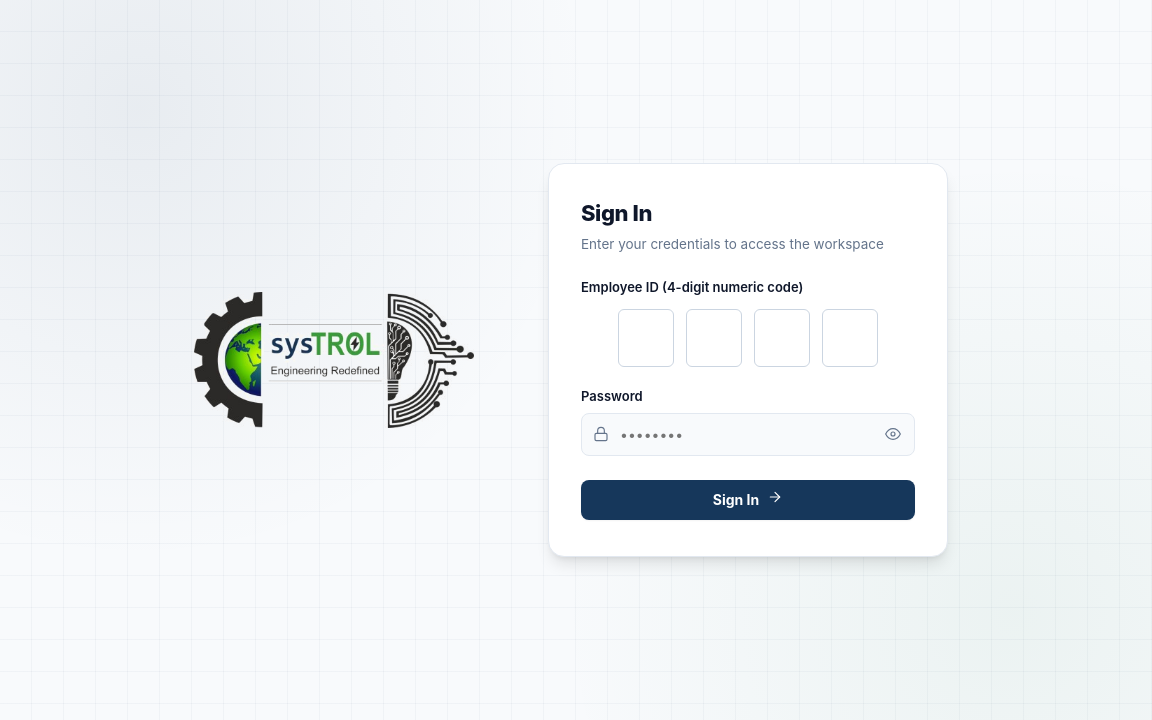
LoginPage › displays revocation banner when user account is deactivated or revoked
Type "0" into the field with test id "employee-code-digit-0".
click(646, 338); type("0")  # box [618,309,674,367]
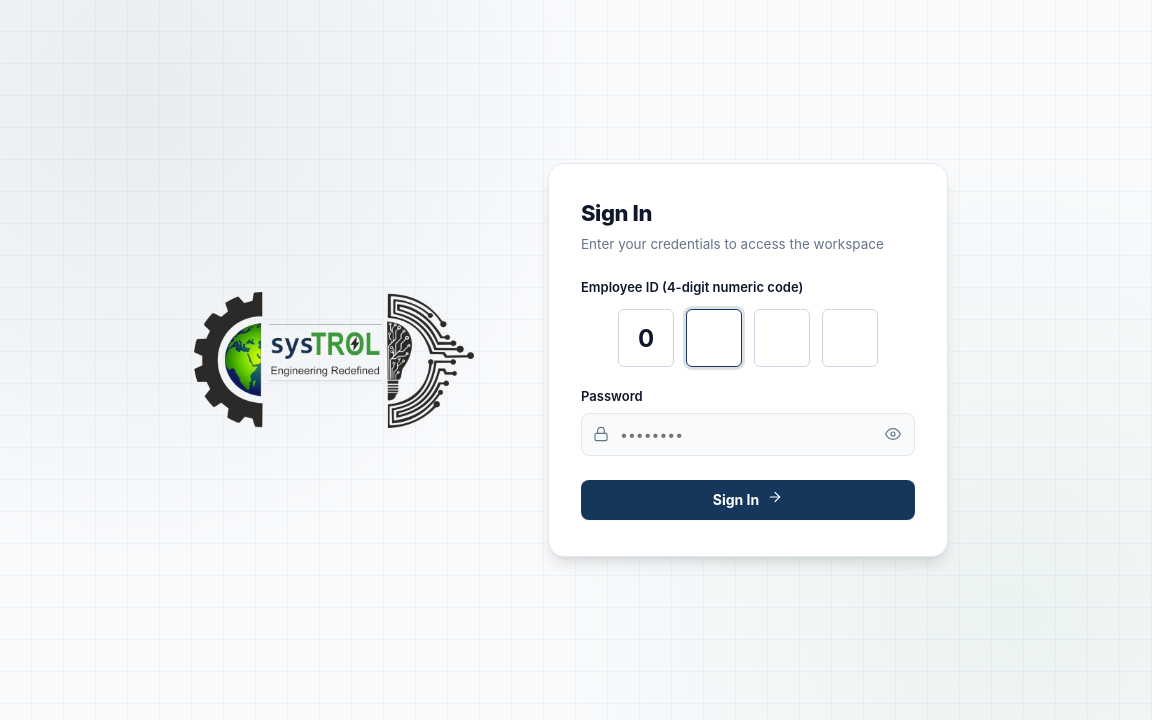
Type "0" into the field named "Digit 2".
click(714, 338); type("0")  # box [686,309,742,367]
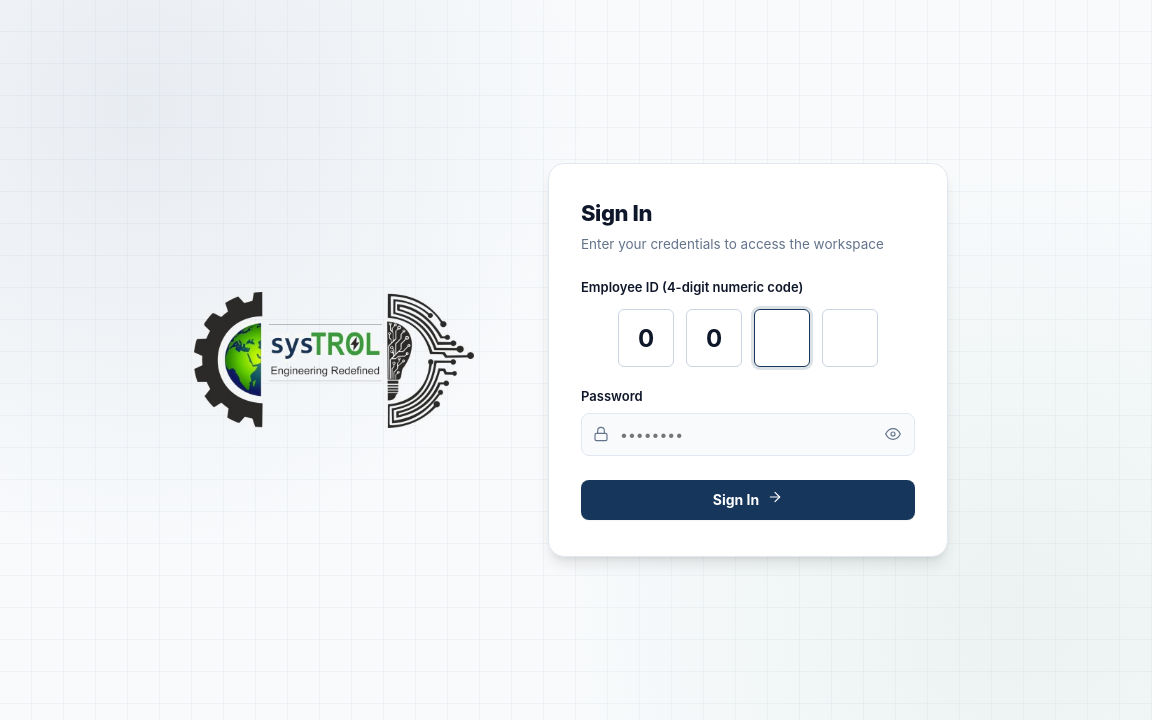
Type "0" into the field named "Digit 3".
click(782, 338); type("0")  # box [754,309,810,367]
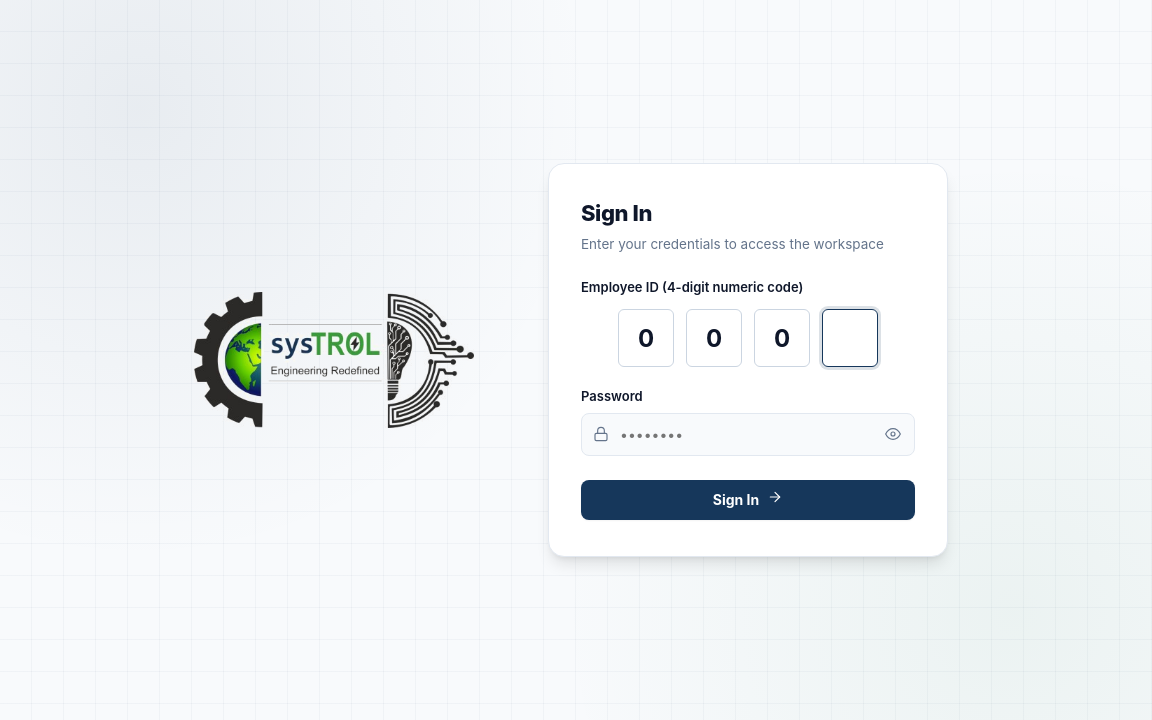
Type "2" into the field named "Digit 4".
click(850, 338); type("2")  # box [822,309,878,367]
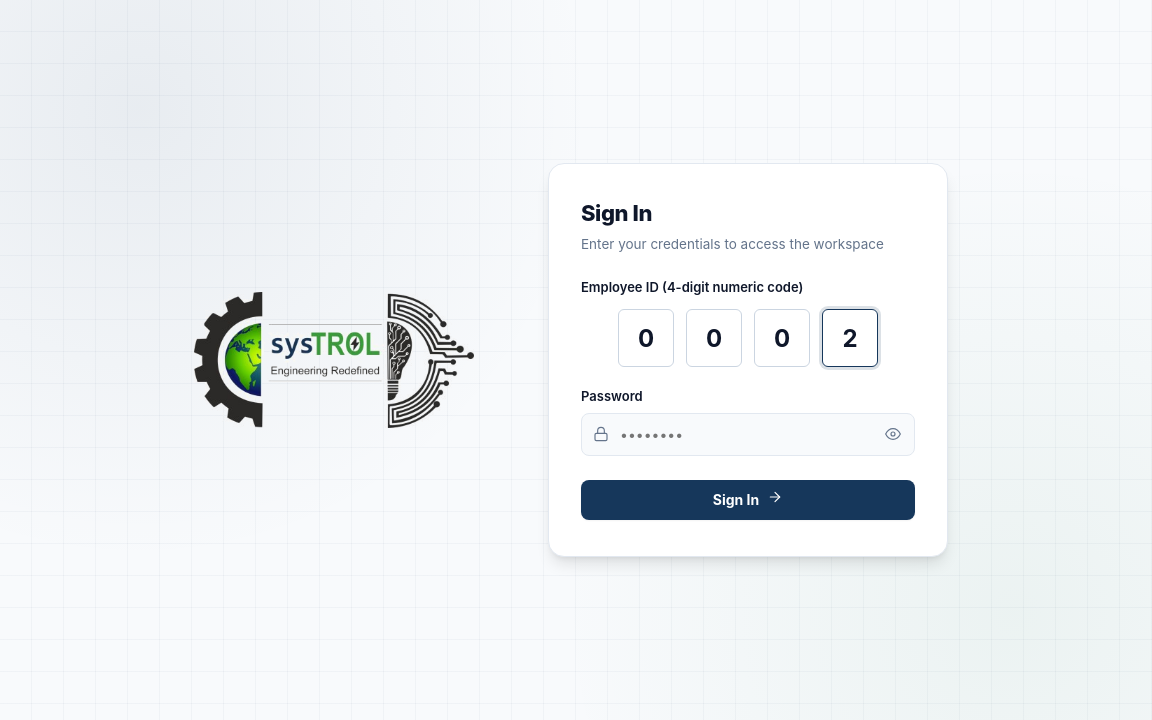
Type "anypassword" into the password field labelled "Password".
click(748, 434); type("anypassword")  # box [581,413,915,456]
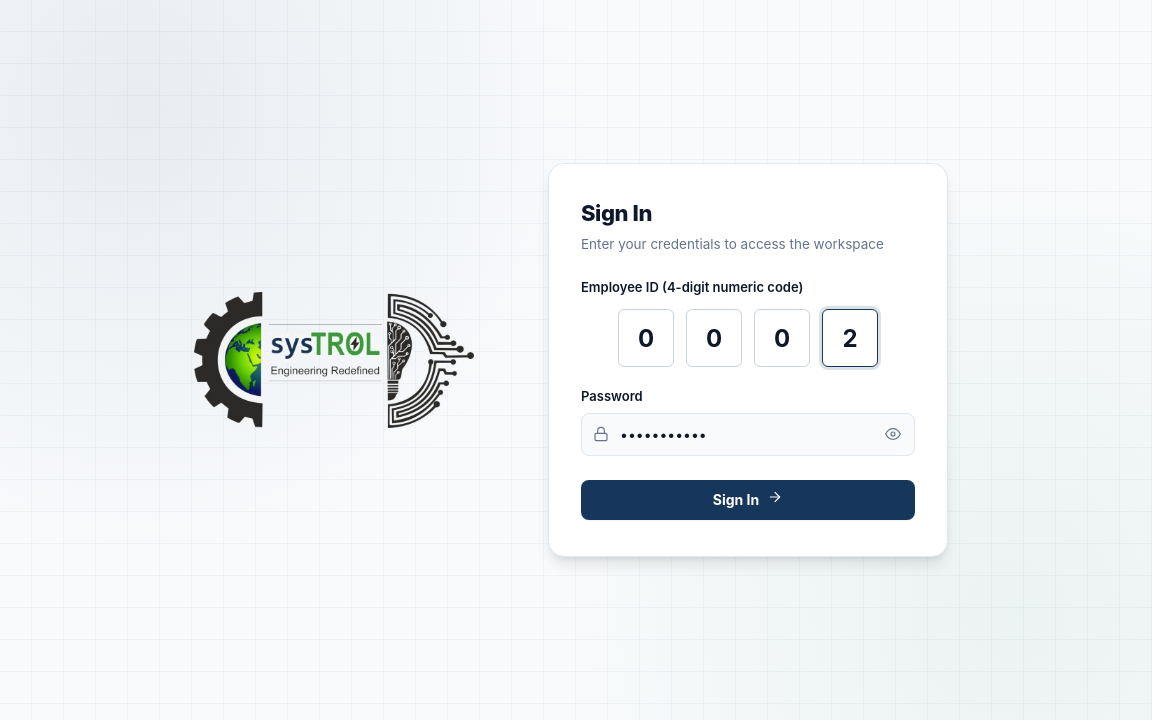
Click the button "Sign In".
click(748, 500)  # box [581,480,915,520]
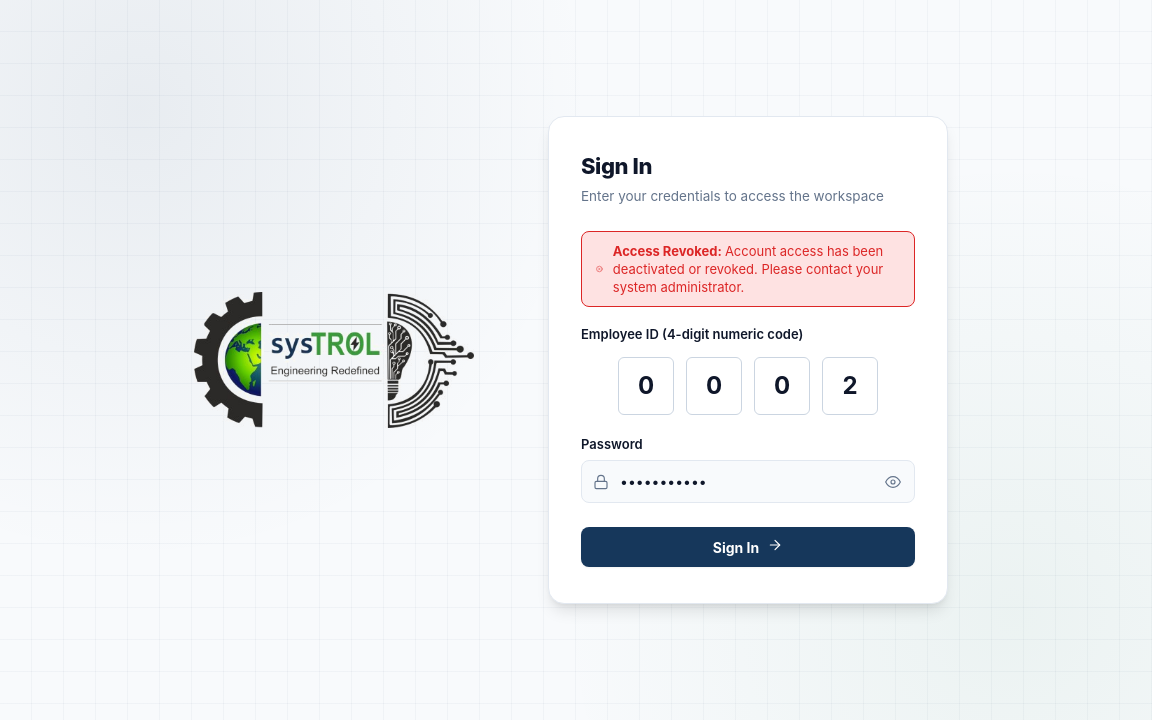
Now the message with test id "banner-revoked" is shown, box [581,231,915,307]
Now the text "Access Revoked:" is shown, box [613,243,725,259]
